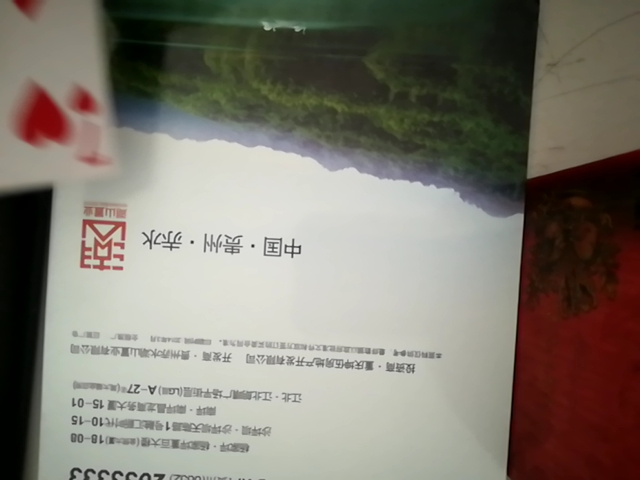hx 7: (4, 5, 121, 345)
